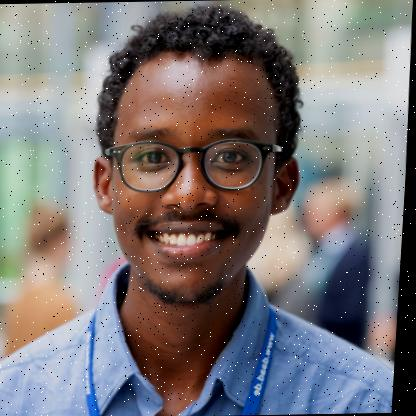person: (82, 8, 312, 308)
